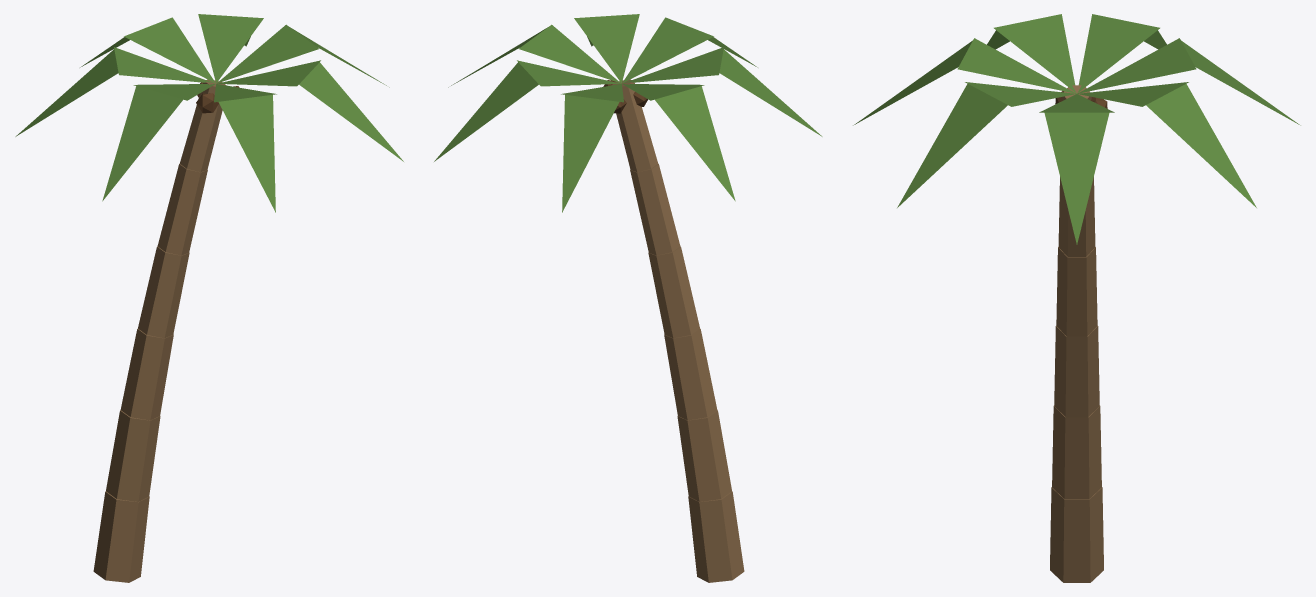
Rendered from nat-palmeira.gltf.
3 renders of one model, left to right at view 1: azimuth 30°, elevation 25°; view 2: azimuth 150°, elevation 25°; view 3: azimuth 270°, elevation 25°, orthographic. The views are drawn at different scales.
Parts seen in each view (by area): view 1: nat-palmeira; view 2: nat-palmeira; view 3: nat-palmeira.
Part boxes in pixels (x1,y1,x2,y2): nat-palmeira: [15, 14, 403, 582]; nat-palmeira: [434, 14, 822, 582]; nat-palmeira: [853, 14, 1300, 582].
Size of the model in its own units: 1.62 by 2.29 by 1.66.
